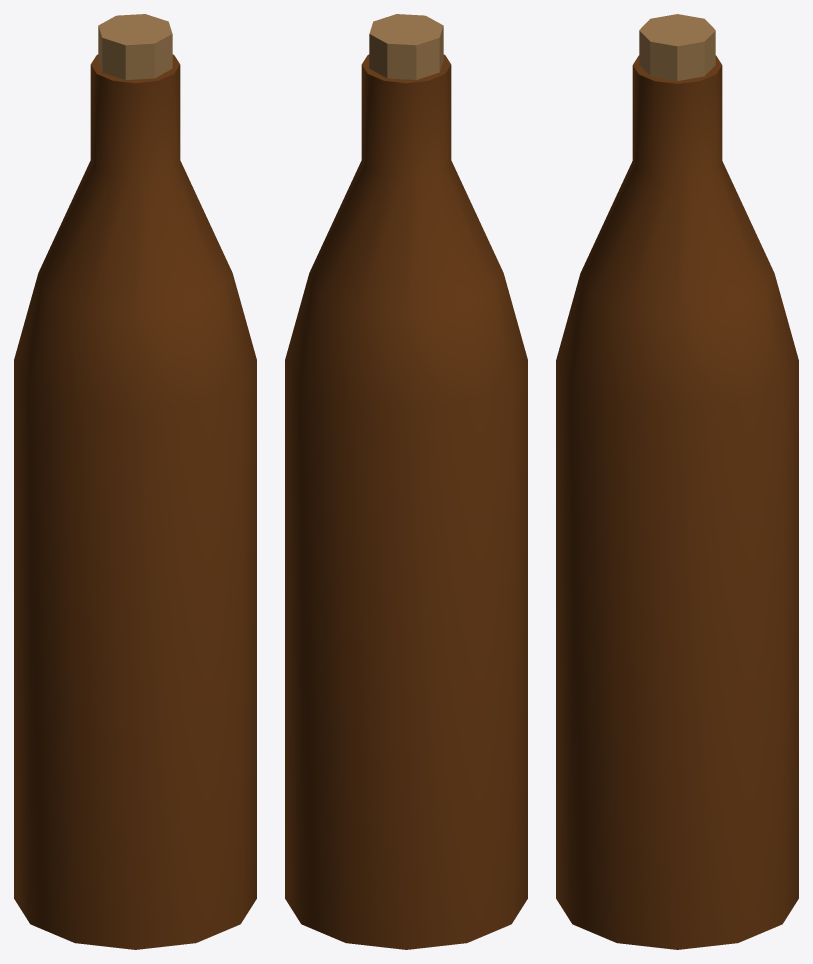
Rendered from tpl_dispensa_bottiglia_aceto_giuseppe.glb.
3 views of the same model, side by side, from view 1: azimuth 30°, elevation 25°; view 2: azimuth 150°, elevation 25°; view 3: azimuth 270°, elevation 25° (orthographic).
Parts seen in each view (by area): view 1: tpl_dispensa_bottiglia_aceto_giuseppe; view 2: tpl_dispensa_bottiglia_aceto_giuseppe; view 3: tpl_dispensa_bottiglia_aceto_giuseppe.
Part boxes in pixels (box(x1,y1,x2,y2)): tpl_dispensa_bottiglia_aceto_giuseppe: box(14, 14, 256, 949); tpl_dispensa_bottiglia_aceto_giuseppe: box(285, 14, 527, 949); tpl_dispensa_bottiglia_aceto_giuseppe: box(556, 14, 798, 949).
Size of the model in its own units: 0.076 by 0.3 by 0.076.
